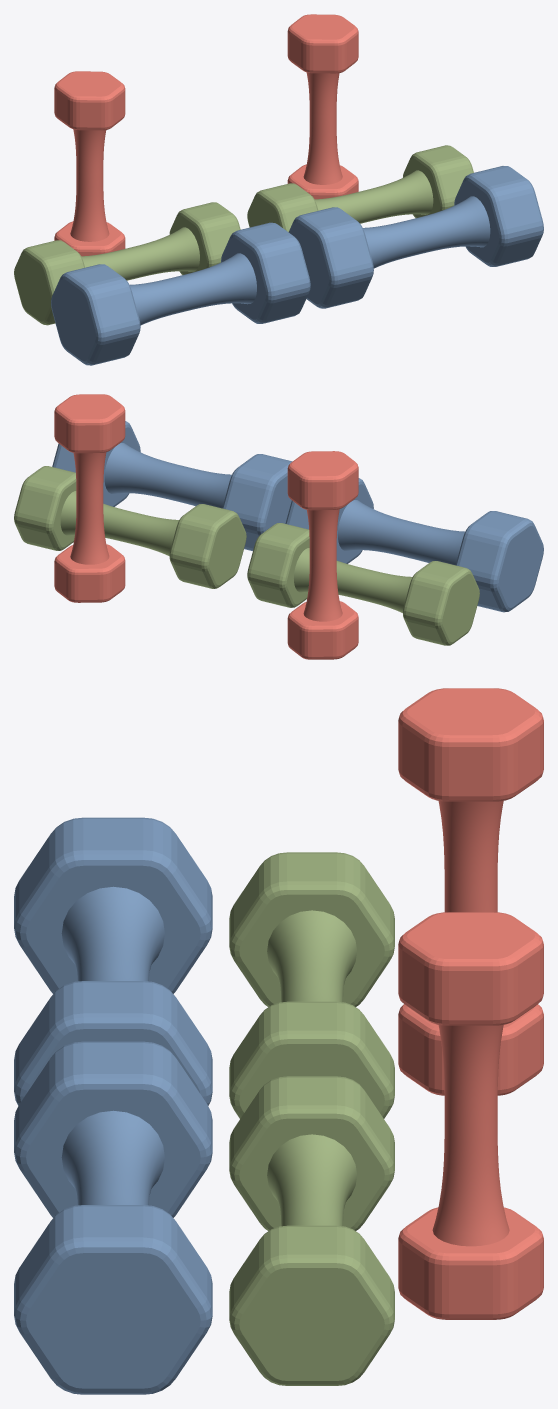
Rendered from flex-studio-dumbbells.glb.
3 renders of one model, top to bottom at view 1: azimuth 30°, elevation 25°; view 2: azimuth 150°, elevation 25°; view 3: azimuth 270°, elevation 25°, orthographic. The views are drawn at different scales.
Parts seen in each view (by area): view 1: Flex blue coating parts, Flex sage coating parts, Flex coral coating parts; view 2: Flex sage coating parts, Flex blue coating parts, Flex coral coating parts; view 3: Flex blue coating parts, Flex sage coating parts, Flex coral coating parts.
Part boxes in pixels (<box>): Flex blue coating parts: <box>51,166,543,365</box>; Flex sage coating parts: <box>14,145,473,325</box>; Flex coral coating parts: <box>54,14,358,256</box>; Flex sage coating parts: <box>14,466,479,645</box>; Flex blue coating parts: <box>52,421,543,612</box>; Flex coral coating parts: <box>54,394,358,659</box>; Flex blue coating parts: <box>14,817,212,1394</box>; Flex sage coating parts: <box>229,852,394,1385</box>; Flex coral coating parts: <box>398,688,543,1319</box>.
Bounding box in the file's own units: 0.46 × 0.18 × 0.24.
